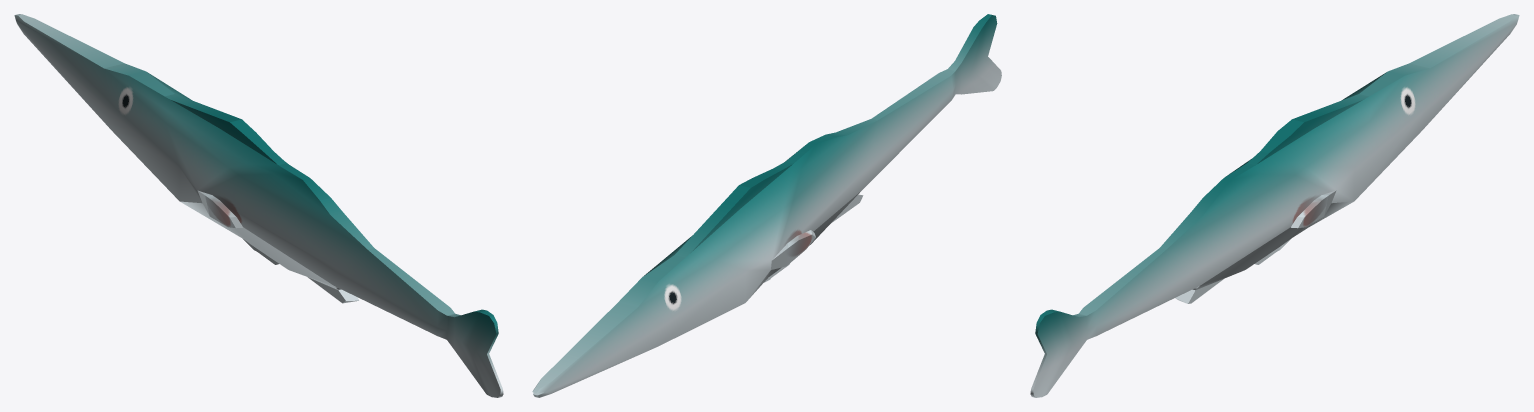
The model's file is orphie.fbx.
3 views of the same model, side by side, from view 1: azimuth 30°, elevation 25°; view 2: azimuth 150°, elevation 25°; view 3: azimuth 330°, elevation 25° (orthographic). The views are drawn at different scales.
Visible parts, largest first — view 1: Orphie; view 2: Orphie; view 3: Orphie.
Part boxes in pixels (x1,y1,x2,y2): Orphie: [14, 14, 503, 397]; Orphie: [532, 14, 1001, 397]; Orphie: [1030, 14, 1519, 397].
Size of the model in its own units: 0.1078 by 0.1458 by 1.14.
